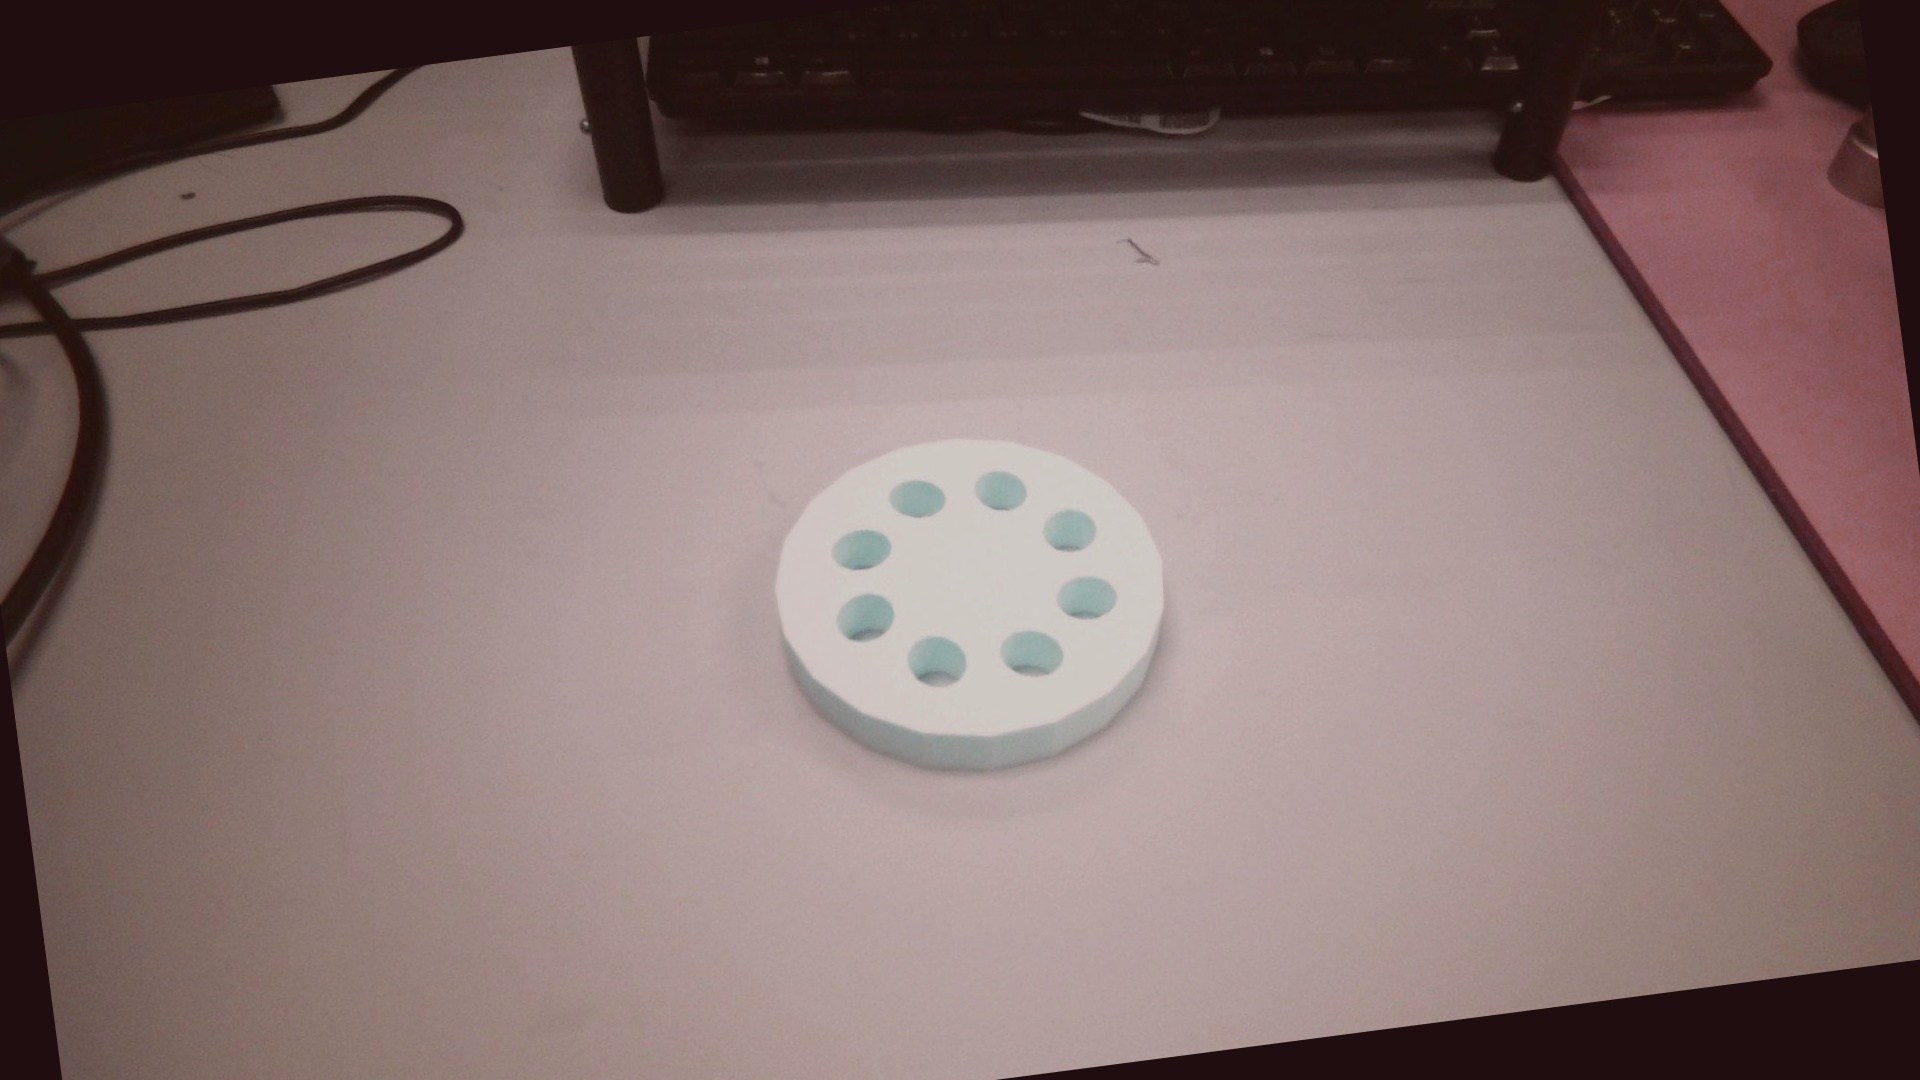hole: (988, 622, 1068, 688), (1048, 560, 1118, 626), (824, 516, 893, 578), (903, 628, 968, 692), (884, 469, 947, 524), (831, 592, 891, 644), (1034, 501, 1093, 549), (971, 467, 1027, 513)
obj: (753, 398, 1184, 799)
